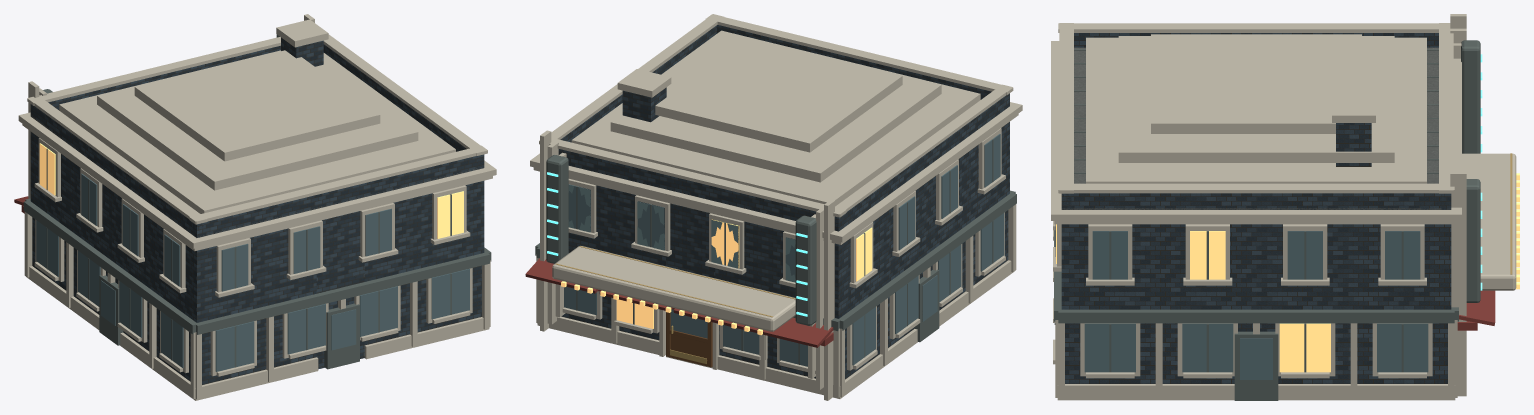
The model's file is bluehour.glb.
3 views of the same model, side by side, from view 1: azimuth 30°, elevation 25°; view 2: azimuth 150°, elevation 25°; view 3: azimuth 270°, elevation 25° (orthographic). The views are drawn at different scales.
Parts seen in each view (by area): view 1: foundation wing, masonry wing, window pane, roof tar seam, window pane.007, roof; view 2: foundation wing, masonry wing, roof tar seam, window pane, canvas awning, window pane.007, window glass remnant, window pane.012, door bottom rail, marquee brass edge, window pane.013, door glazing (+1 smaller); view 3: foundation wing, masonry wing, window pane, roof tar seam, window pane.007, roof, canvas awning.
Boxes of the visible parts, x1,y1,x2,y2 form: foundation wing: (18,14,496,400); masonry wing: (30,37,484,384); window pane: (36,173,469,371); roof tar seam: (23,34,491,369); window pane.007: (39,143,463,238); roof: (30,115,481,237); foundation wing: (530,14,1022,400); masonry wing: (558,25,1009,379); roof tar seam: (535,139,1016,364); window pane: (564,134,1004,366); canvas awning: (525,258,833,347); window pane.007: (561,227,872,335); window glass remnant: (568,185,795,282); window pane.012: (568,184,795,278); door bottom rail: (666,312,712,367); marquee brass edge: (555,246,795,317); window pane.013: (711,219,739,268); door glazing: (670,309,707,338); foundation wing: (1051,14,1516,400); masonry wing: (1061,33,1451,383); window pane: (1084,231,1428,379); roof tar seam: (1054,40,1480,400); window pane.007: (1056,173,1519,372); roof: (1061,47,1451,209); canvas awning: (1457,290,1495,330).
Bounding box in the file's own units: 12.65 × 8.9 × 14.44.
Materials: 13 (2 with a texture image).
